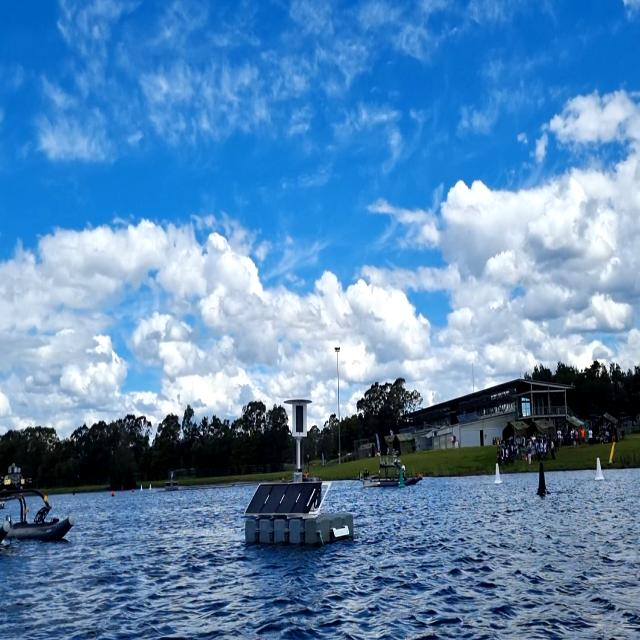led: (294, 403, 306, 435)
